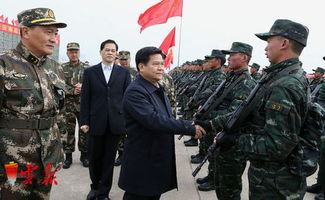10+: (1, 1, 323, 199)
